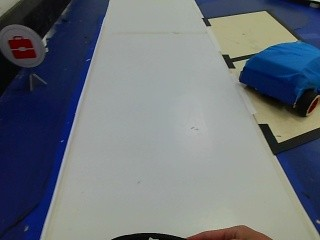car: (232, 39, 318, 117)
company: (2, 26, 51, 71)
